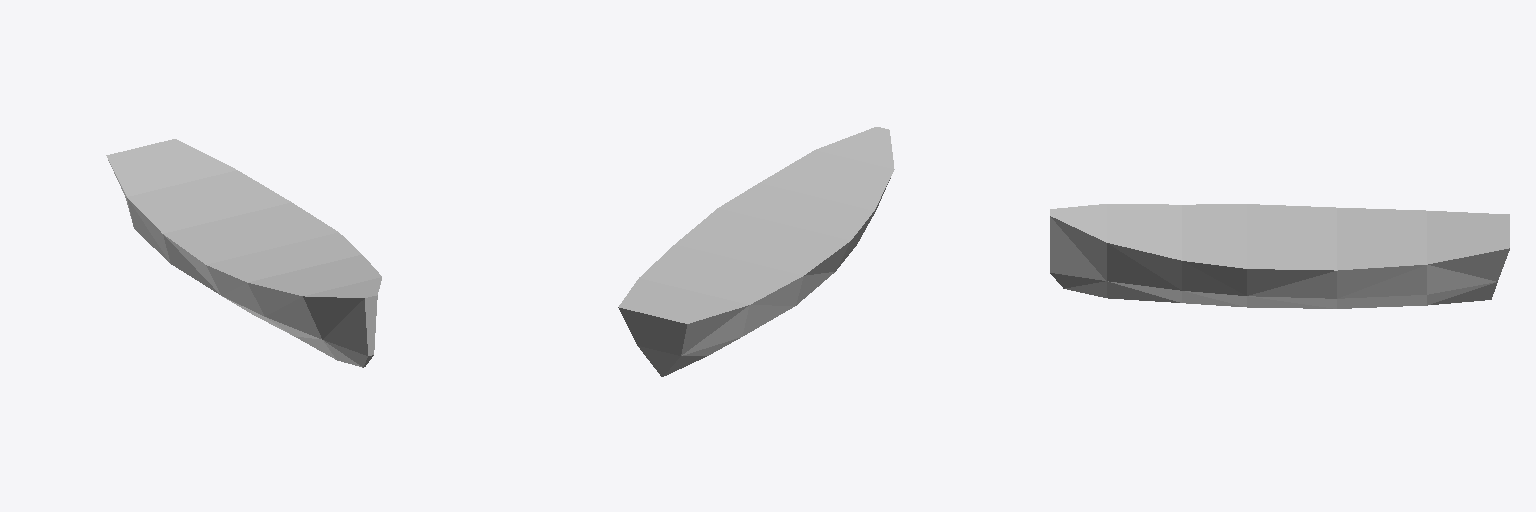
File: lug_boat_collision_shape.obj
The picture shows the model from 3 angles: view 1: azimuth 30°, elevation 25°; view 2: azimuth 150°, elevation 25°; view 3: azimuth 270°, elevation 25°; orthographic projection.
Parts seen in each view (by area): view 1: Cube; view 2: Cube; view 3: Cube.
Boxes of the visible parts, box(x1,y1,x2,y2) form: Cube: box(106, 139, 381, 367); Cube: box(618, 127, 894, 376); Cube: box(1050, 204, 1509, 308).
Size of the model in its own units: 1.71 by 1.06 by 5.11.